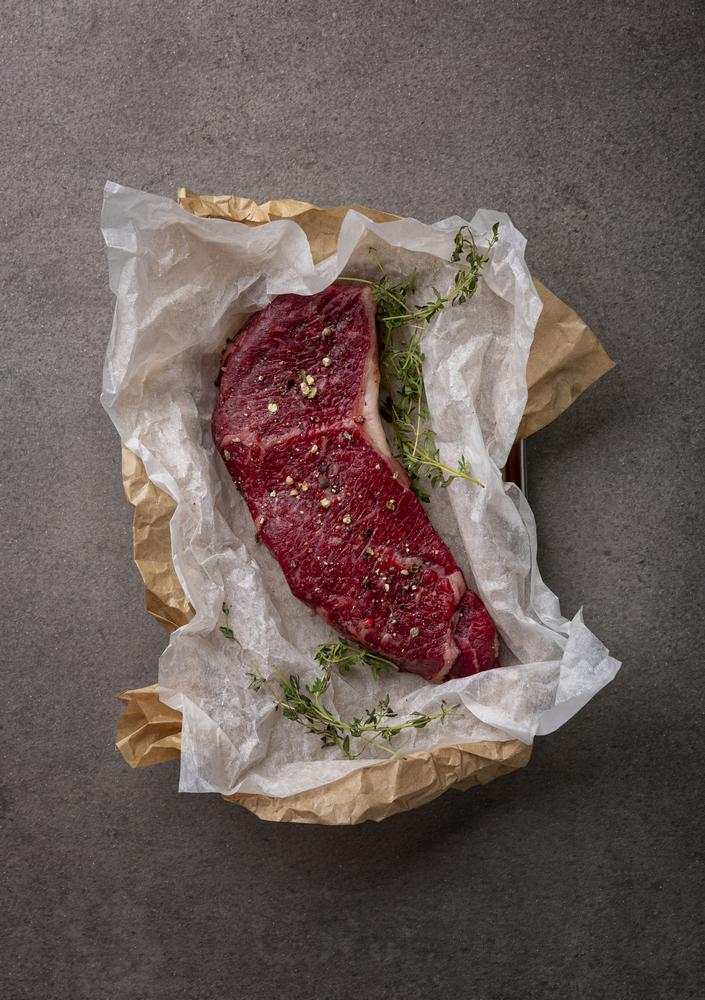beef: (232, 452, 552, 1000)
